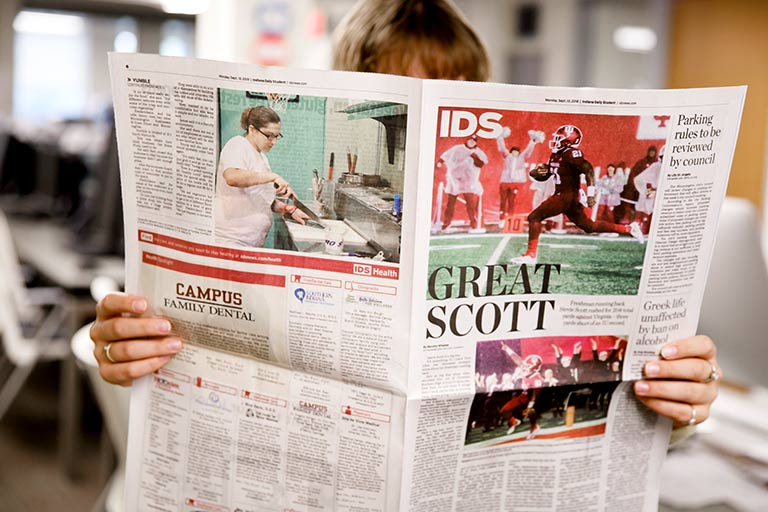news_paper: (69, 25, 757, 512)
